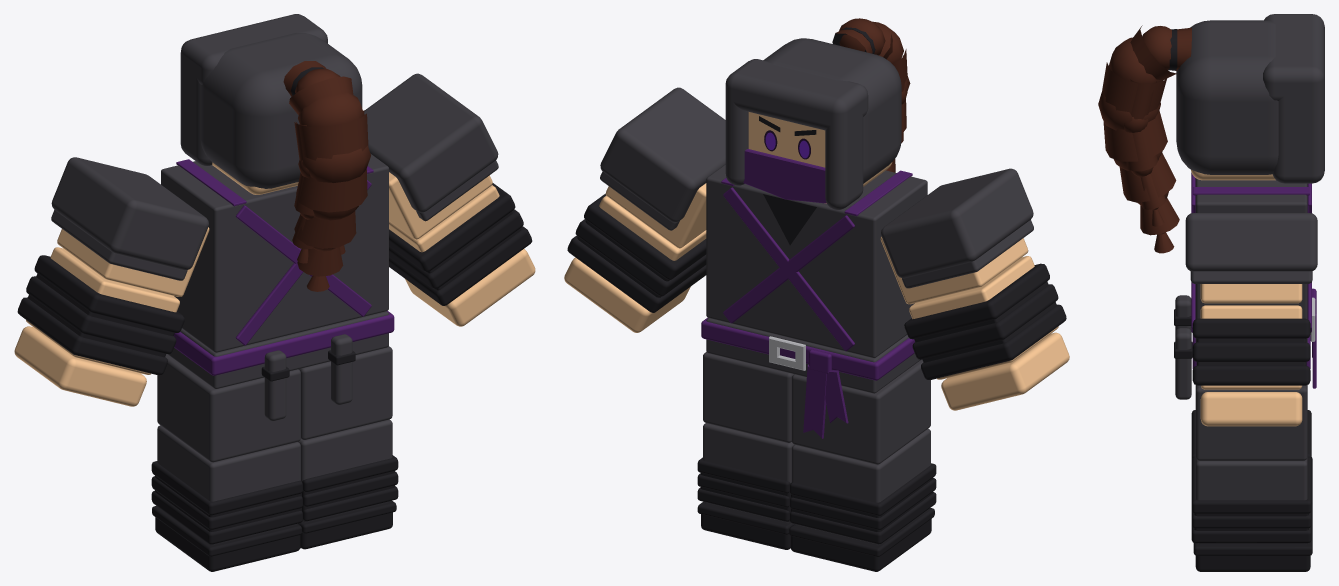
File: assassin_female.glb
The picture shows the model from 3 angles, left to right: view 1: azimuth 30°, elevation 25°; view 2: azimuth 150°, elevation 25°; view 3: azimuth 270°, elevation 25°; orthographic projection. The views are drawn at different scales.
Parts seen in each view (by area): view 1: UpperTorso, Hood, LeftUpperArm, RightUpperArm, Hair, LeftLowerArm, LeftLowerLeg, LeftUpperLeg, RightLowerArm, RightLowerLeg, LowerTorso, RightUpperLeg (+5 smaller); view 2: UpperTorso, Hood, LeftUpperArm, RightUpperArm, LeftLowerArm, LeftLowerLeg, RightLowerArm, LeftUpperLeg, RightLowerLeg, LowerTorso, RightUpperLeg, LeftHand (+7 smaller); view 3: Hood, Hair, RightUpperArm, RightLowerLeg, RightLowerArm, UpperTorso, RightUpperLeg, RightHand, RightFoot, Sheaths, Head, LeftLowerLeg (+2 smaller).
Part boxes in pixels (x1,y1,x2,y2): UpperTorso: (161, 154, 388, 352); Hood: (180, 14, 362, 188); LeftUpperArm: (51, 157, 209, 296); RightUpperArm: (364, 73, 498, 239); Hair: (283, 61, 370, 291); LeftLowerArm: (17, 247, 184, 375); LeftLowerLeg: (151, 425, 302, 544); LeftUpperLeg: (157, 354, 300, 462); RightLowerArm: (389, 183, 532, 305); RightLowerLeg: (298, 419, 398, 521); LowerTorso: (167, 311, 394, 388); RightUpperLeg: (298, 346, 392, 439); UpperTorso: (706, 164, 927, 357); Hood: (725, 38, 901, 209); LeftUpperArm: (880, 168, 1033, 304); RightUpperArm: (600, 87, 725, 248); LeftLowerArm: (904, 256, 1066, 379); LeftLowerLeg: (790, 428, 936, 544); RightLowerArm: (567, 193, 706, 312); LeftUpperLeg: (791, 359, 930, 464); RightLowerLeg: (697, 423, 794, 522); LowerTorso: (701, 317, 920, 393); RightUpperLeg: (703, 352, 793, 442); LeftHand: (941, 332, 1069, 410); Hood: (1176, 14, 1324, 183); Hair: (1098, 25, 1191, 253); RightUpperArm: (1185, 213, 1317, 303); RightLowerLeg: (1191, 457, 1311, 543); RightLowerArm: (1192, 305, 1310, 389); UpperTorso: (1191, 172, 1311, 342); RightUpperLeg: (1195, 385, 1307, 460); RightHand: (1200, 392, 1302, 426); RightFoot: (1193, 504, 1312, 571); Sheaths: (1174, 295, 1192, 399); Head: (1191, 170, 1275, 180); LeftLowerLeg: (1191, 410, 1311, 459).
Bounding box in the file's own units: 5.47 × 5.42 × 2.23.
